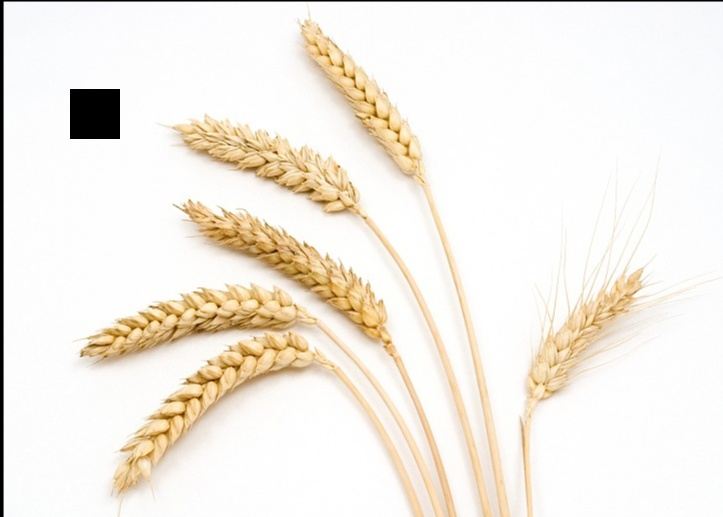wheat: (77, 333, 332, 502), (174, 201, 395, 344), (294, 15, 443, 215), (521, 238, 655, 438), (174, 112, 380, 230), (74, 283, 308, 360)
